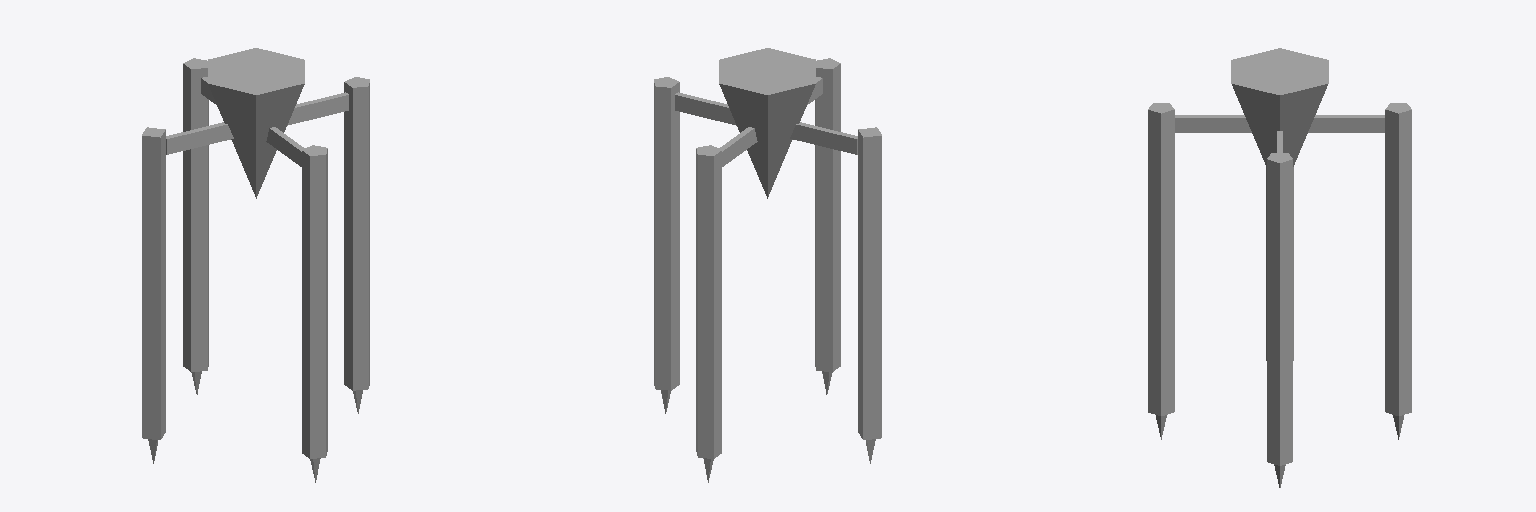
The model's file is ship6.obj.
3 views of the same model, side by side, from view 1: azimuth 30°, elevation 25°; view 2: azimuth 150°, elevation 25°; view 3: azimuth 270°, elevation 25° (orthographic).
Parts seen in each view (by area): view 1: ship6_cone; view 2: ship6_cone; view 3: ship6_cone.
Boxes of the visible parts, box(x1,y1,x2,y2) form: ship6_cone: box(142, 48, 369, 482); ship6_cone: box(654, 48, 881, 482); ship6_cone: box(1148, 48, 1411, 487).
Size of the model in its own units: 1.51 by 2.32 by 1.5.